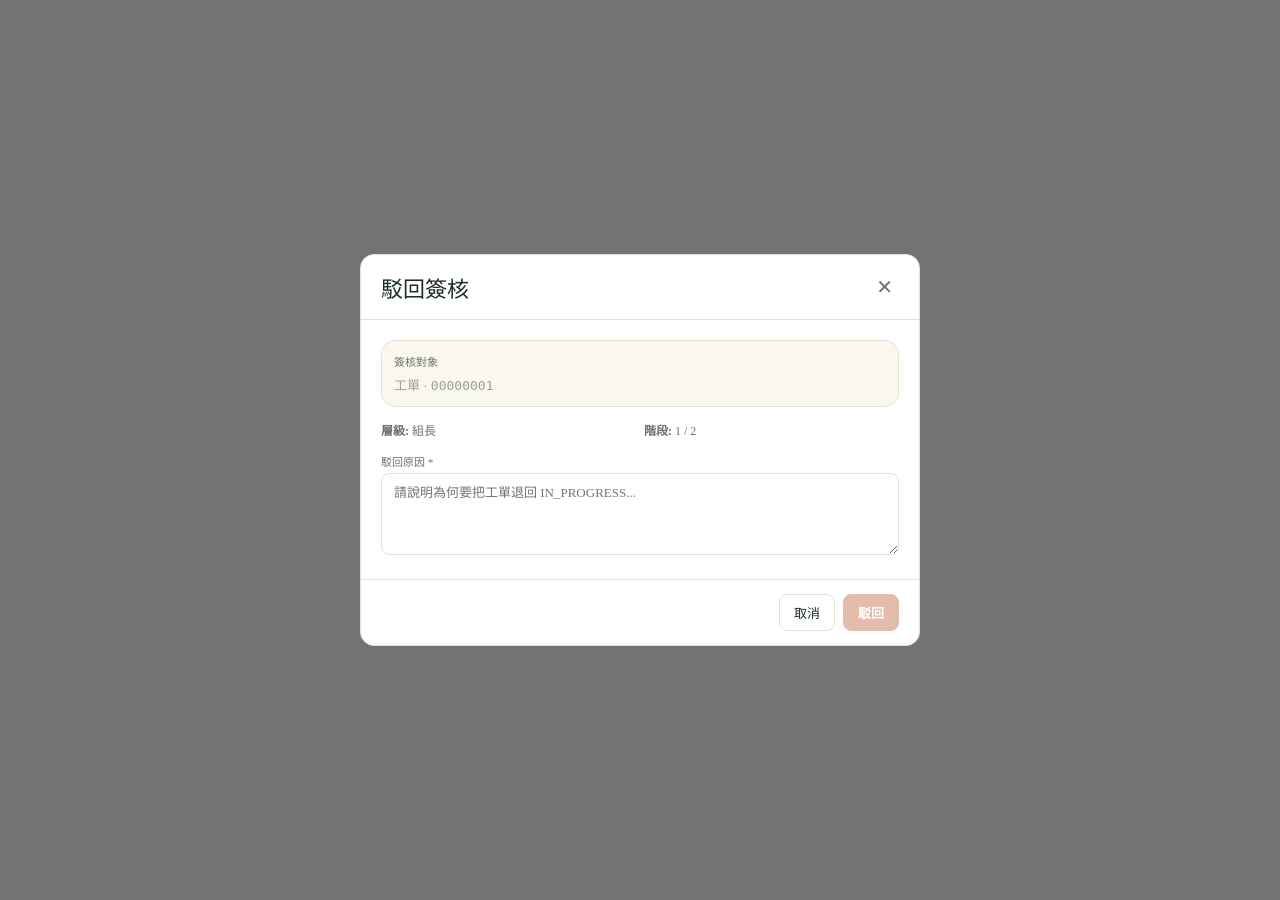
it: ApprovalActionDialog 簽核/駁回對話框 › reject：reason 為空 → 送出鈕 disabled；填入內容後 enabled
Expected: the button with aria-label "確認駁回" is disabled, [843,594,899,631]
Type "缺工時紀錄" into the text box labelled "駁回原因" at (640, 514), box [381,473,899,555]
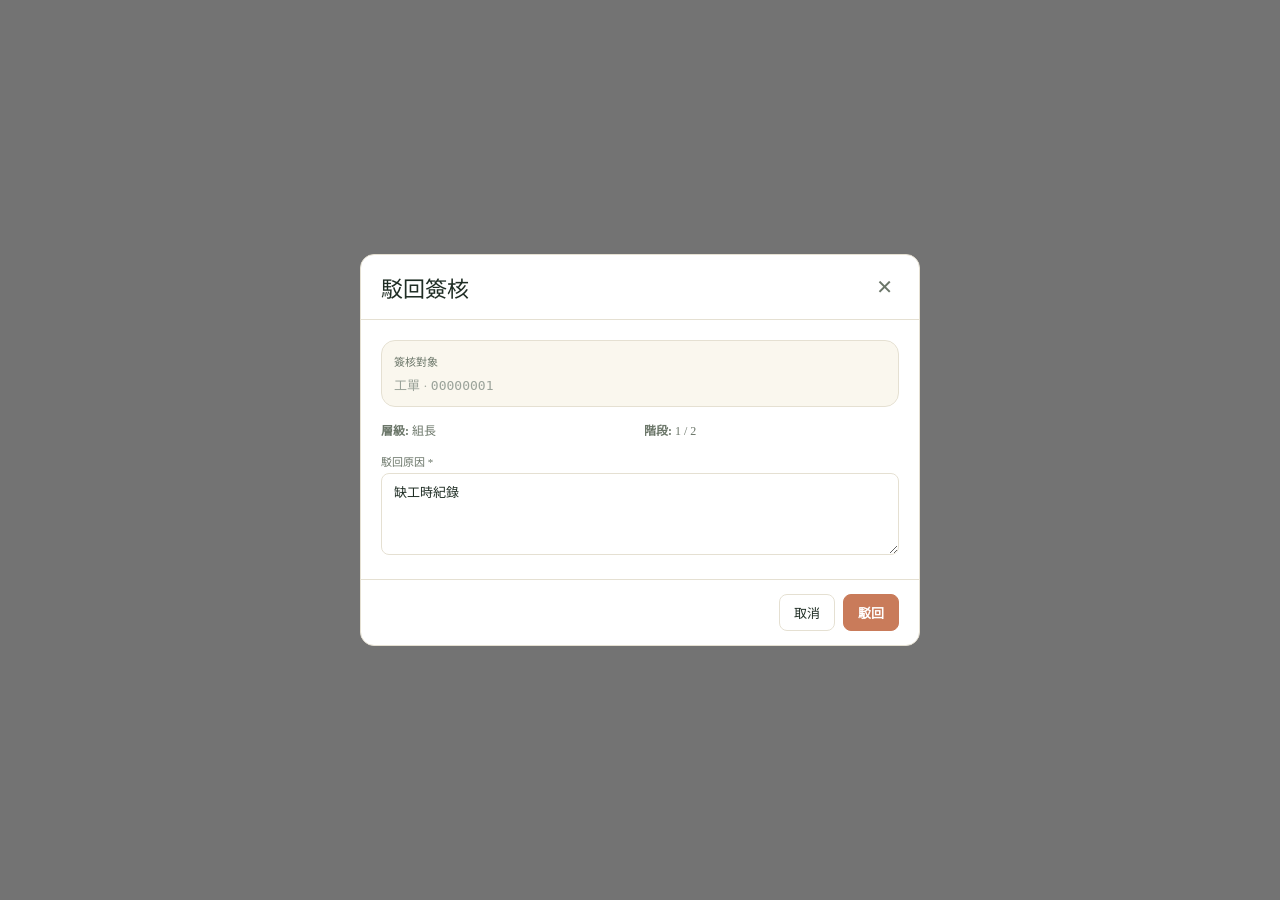
Result: the button with aria-label "確認駁回" is enabled at [843,594,899,631]
